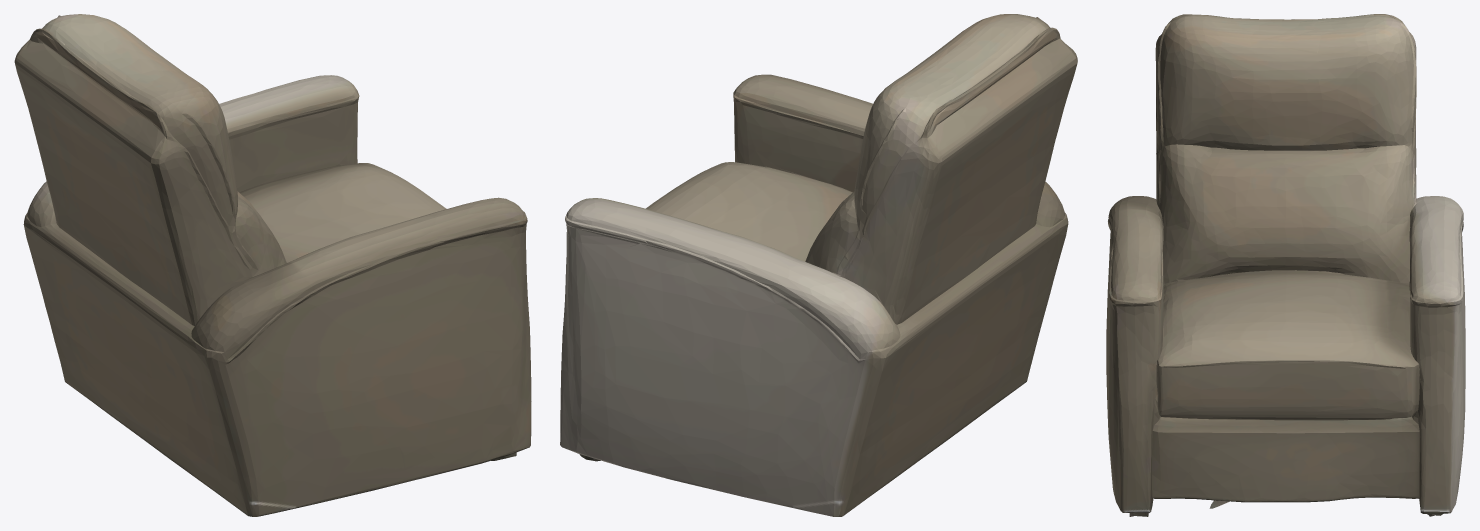
The model's file is lounge_chair_25.glb.
3 views of the same model, side by side, from view 1: azimuth 30°, elevation 25°; view 2: azimuth 150°, elevation 25°; view 3: azimuth 270°, elevation 25° (orthographic). The views are drawn at different scales.
Visible parts, largest first — view 1: lounge_chair_25.obj; view 2: lounge_chair_25.obj; view 3: lounge_chair_25.obj.
Part boxes in pixels (left/top/right/bottom): lounge_chair_25.obj: left=14, top=14, right=531, bottom=516; lounge_chair_25.obj: left=560, top=14, right=1077, bottom=516; lounge_chair_25.obj: left=1106, top=14, right=1465, bottom=516.
Bounding box in the file's own units: 1.02 × 1.1 × 0.983.
1 material, 1 textured.
